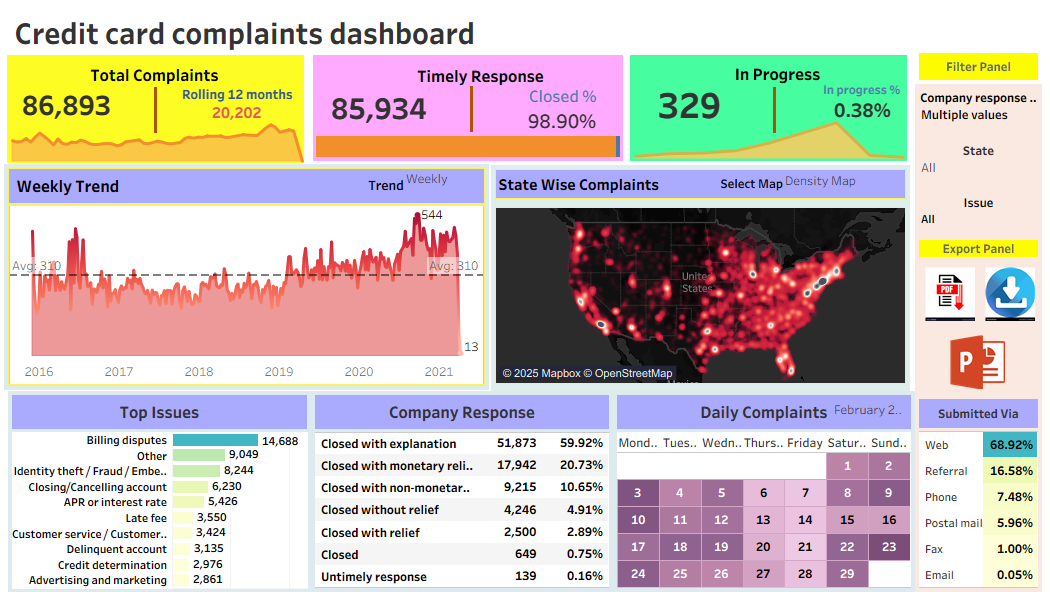

The dashboard page shown, as its layout file describes it:
{"tool":"tableau","page":{"name":"Credit card complaints dashboard","canvas":[1050,600],"ordinal":0},"visuals":[{"type":"title","box":[8,8,907,48]},{"type":"blank","box":[915,8,127,41]},{"type":"text","box":[915,49,127,35]},{"type":"blank","box":[7,55,297,108]},{"type":"blank","box":[313,55,310,106]},{"type":"blank","box":[630,55,277,106]},{"type":"text","box":[668,55,219,37]},{"type":"text","box":[45,56,219,37]},{"type":"text","box":[371,57,219,37]},{"type":"worksheet","title":"In progress %","mark":"Automatic","box":[817,81,91,43]},{"type":"worksheet","title":"In Progress complaints","mark":"Automatic","box":[647,84,86,41]},{"type":"filter","title":"Company Response","param":"[federated.0dilgm71hngn8l15nrybt1of75vb].[none:Company response to consumer:nk]","box":[915,84,127,53]},{"type":"worksheet","title":"Rolling 12 month complaints","mark":"Automatic","box":[177,85,121,39]},{"type":"worksheet","title":"Timely response","mark":"Automatic","box":[320,86,119,44]},{"type":"blank","box":[470,86,3,46]},{"type":"worksheet","title":"Closed percentage","mark":"Automatic","box":[515,86,96,47]},{"type":"worksheet","title":"Total complaints","mark":"Automatic","box":[14,87,107,35]},{"type":"blank","box":[154,87,3,46]},{"type":"blank","box":[773,87,3,46]},{"type":"worksheet","title":"In progress sparkline","mark":"Automatic","rows":["Calculation_871165110885179409","Calculation_871165110885179409"],"cols":["Date received"],"box":[616,119,306,41]},{"type":"worksheet","title":"Progress bar","mark":"Bar","cols":["Calculation_871165110884229136","Calculation_871165110877298696"],"box":[316,132,319,28]},{"type":"filter","title":"Density Map","param":"[federated.0dilgm71hngn8l15nrybt1of75vb].[none:State:nk]","box":[915,137,127,52]},{"type":"worksheet","title":"Trend","mark":"Automatic","rows":["Number of Records","Number of Records"],"cols":["Calculation_436849222089494528"],"box":[4,164,485,226]},{"type":"text","box":[491,165,419,38]},{"type":"parameter","param":"[Parameters].[Parameter 1]","box":[332,170,151,29]},{"type":"parameter","param":"[Parameters].[Parameter 2]","box":[711,172,192,22]},{"type":"filter","title":"Top Issues","param":"[federated.0dilgm71hngn8l15nrybt1of75vb].[none:Issue:nk]","box":[915,189,127,47]},{"type":"worksheet","title":"Density Map","mark":"Heatmap","box":[491,203,419,185]},{"type":"text","box":[915,236,127,25]},{"type":"blank","box":[915,261,127,133.5]},{"type":"dashboard-object","box":[923,267,55,54]},{"type":"dashboard-object","box":[985,267,50,55]},{"type":"dashboard-object","box":[950,335,55,54]},{"type":"worksheet","title":"Field Map","mark":"Multipolygon","box":[491,388,419,1]},{"type":"worksheet","title":"Top Issues","mark":"Automatic","rows":["Issue"],"cols":["Number of Records"],"box":[8,391,303,201]},{"type":"worksheet","title":"Company Response","mark":"Automatic","rows":["Company response to consumer"],"box":[311,391,302,201]},{"type":"worksheet","title":"Daily Complaints","mark":"Square","rows":["Date received"],"cols":["Date received"],"box":[613,391,302,201]},{"type":"worksheet","title":"Submitted Via","mark":"Square","rows":["Submitted via"],"box":[915,394.5,127,197.5]},{"type":"filter","title":"Daily Complaints","param":"[federated.0dilgm71hngn8l15nrybt1of75vb].[my:Date received:ok]","box":[832,401,75,18]}]}

Visuals, with their boxes in screenshot pixels (x1, y1, x2, y2), scaled from the page's 1050x600 canvas onto the 1050x600 screenshot:
title: (x1=8, y1=8, x2=915, y2=56)
blank: (x1=915, y1=8, x2=1042, y2=49)
text: (x1=915, y1=49, x2=1042, y2=84)
blank: (x1=7, y1=55, x2=304, y2=163)
blank: (x1=313, y1=55, x2=623, y2=161)
blank: (x1=630, y1=55, x2=907, y2=161)
text: (x1=668, y1=55, x2=887, y2=92)
text: (x1=45, y1=56, x2=264, y2=93)
text: (x1=371, y1=57, x2=590, y2=94)
"In progress %" worksheet: (x1=817, y1=81, x2=908, y2=124)
"In Progress complaints" worksheet: (x1=647, y1=84, x2=733, y2=125)
"Company Response" filter: (x1=915, y1=84, x2=1042, y2=137)
"Rolling 12 month complaints" worksheet: (x1=177, y1=85, x2=298, y2=124)
"Timely response" worksheet: (x1=320, y1=86, x2=439, y2=130)
blank: (x1=470, y1=86, x2=473, y2=132)
"Closed percentage" worksheet: (x1=515, y1=86, x2=611, y2=133)
"Total complaints" worksheet: (x1=14, y1=87, x2=121, y2=122)
blank: (x1=154, y1=87, x2=157, y2=133)
blank: (x1=773, y1=87, x2=776, y2=133)
"In progress sparkline" worksheet: (x1=616, y1=119, x2=922, y2=160)
"Progress bar" worksheet (Bar marks): (x1=316, y1=132, x2=635, y2=160)
"Density Map" filter: (x1=915, y1=137, x2=1042, y2=189)
"Trend" worksheet: (x1=4, y1=164, x2=489, y2=390)
text: (x1=491, y1=165, x2=910, y2=203)
parameter: (x1=332, y1=170, x2=483, y2=199)
parameter: (x1=711, y1=172, x2=903, y2=194)
"Top Issues" filter: (x1=915, y1=189, x2=1042, y2=236)
"Density Map" worksheet (Heatmap marks): (x1=491, y1=203, x2=910, y2=388)
text: (x1=915, y1=236, x2=1042, y2=261)
blank: (x1=915, y1=261, x2=1042, y2=394)
dashboard-object: (x1=923, y1=267, x2=978, y2=321)
dashboard-object: (x1=985, y1=267, x2=1035, y2=322)
dashboard-object: (x1=950, y1=335, x2=1005, y2=389)
"Field Map" worksheet (Multipolygon marks): (x1=491, y1=388, x2=910, y2=389)
"Top Issues" worksheet: (x1=8, y1=391, x2=311, y2=592)
"Company Response" worksheet: (x1=311, y1=391, x2=613, y2=592)
"Daily Complaints" worksheet (Square marks): (x1=613, y1=391, x2=915, y2=592)
"Submitted Via" worksheet (Square marks): (x1=915, y1=394, x2=1042, y2=592)
"Daily Complaints" filter: (x1=832, y1=401, x2=907, y2=419)
